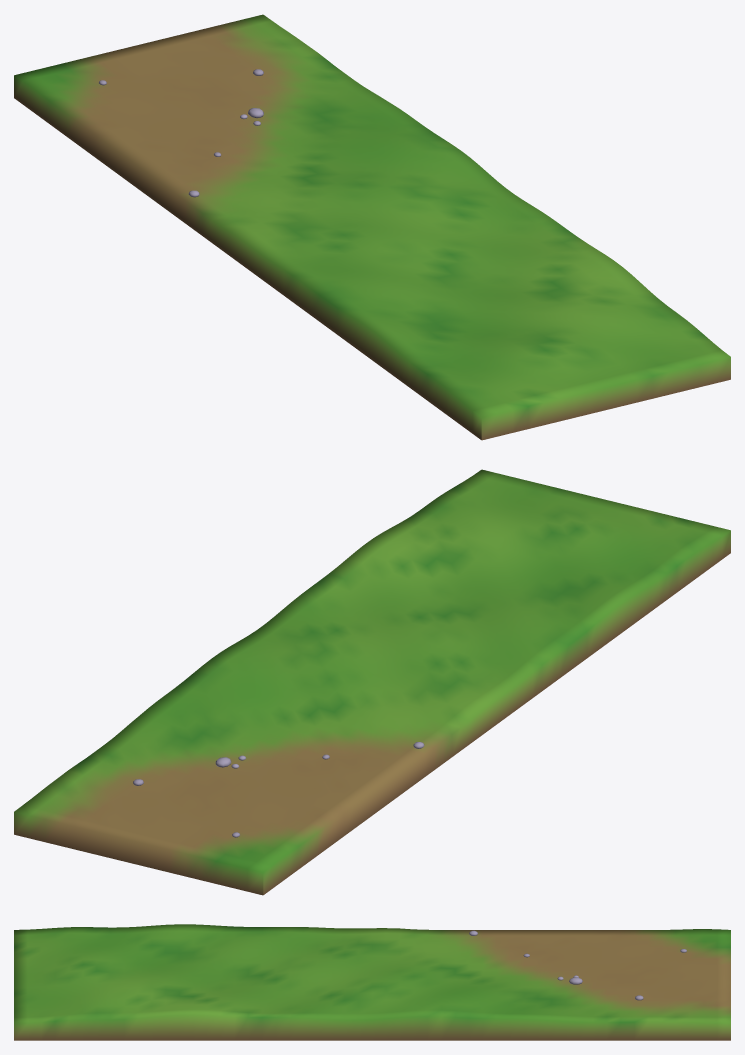
Rendered from ground_tile_path.glb.
3 views of the same model, one above another, from view 1: azimuth 30°, elevation 25°; view 2: azimuth 150°, elevation 25°; view 3: azimuth 270°, elevation 25° (orthographic). The views are drawn at different scales.
Parts seen in each view (by area): view 1: Ground_Tile_Path_Surface; view 2: Ground_Tile_Path_Surface; view 3: Ground_Tile_Path_Surface, Ground_Tile_Path_Pebbles.
Boxes of the visible parts, box(x1,y1,x2,y2) form: Ground_Tile_Path_Surface: box(14, 14, 730, 440); Ground_Tile_Path_Surface: box(14, 469, 730, 895); Ground_Tile_Path_Surface: box(14, 924, 730, 1040); Ground_Tile_Path_Pebbles: box(469, 930, 686, 1000).
Bounding box in the file's own units: 4 × 0.5147 × 13.
